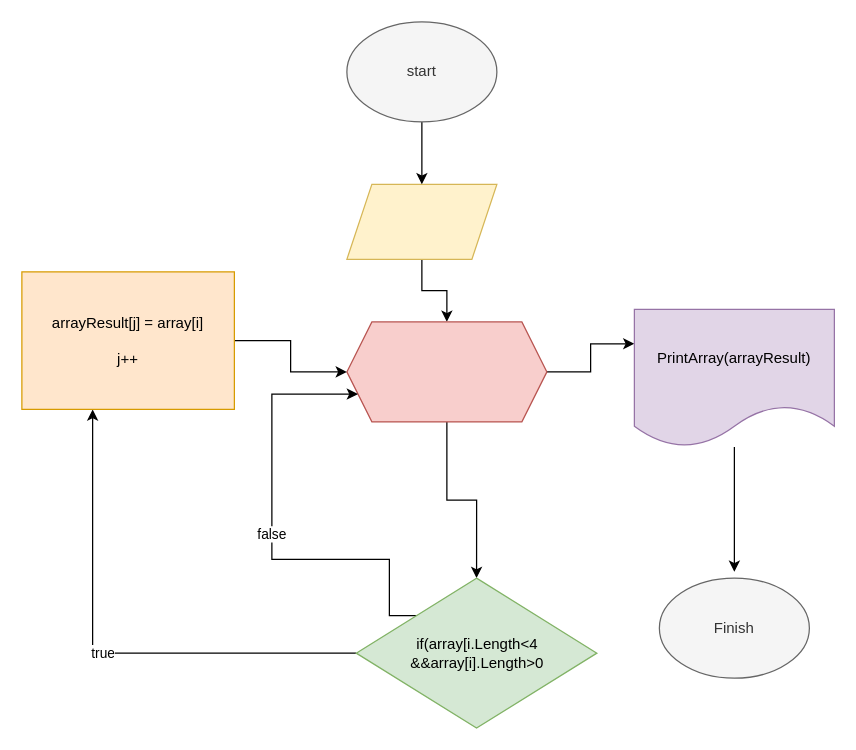
Some shapes in this 856 by 750 pixel diagram are drawn without their labels. The box of each missing label's shape, as (x1, y1, x2, y2) in pixels:
array arrayResult int j = 0: (346, 183, 497, 259)
for i=0, i<array.Length, i++: (346, 321, 547, 422)
